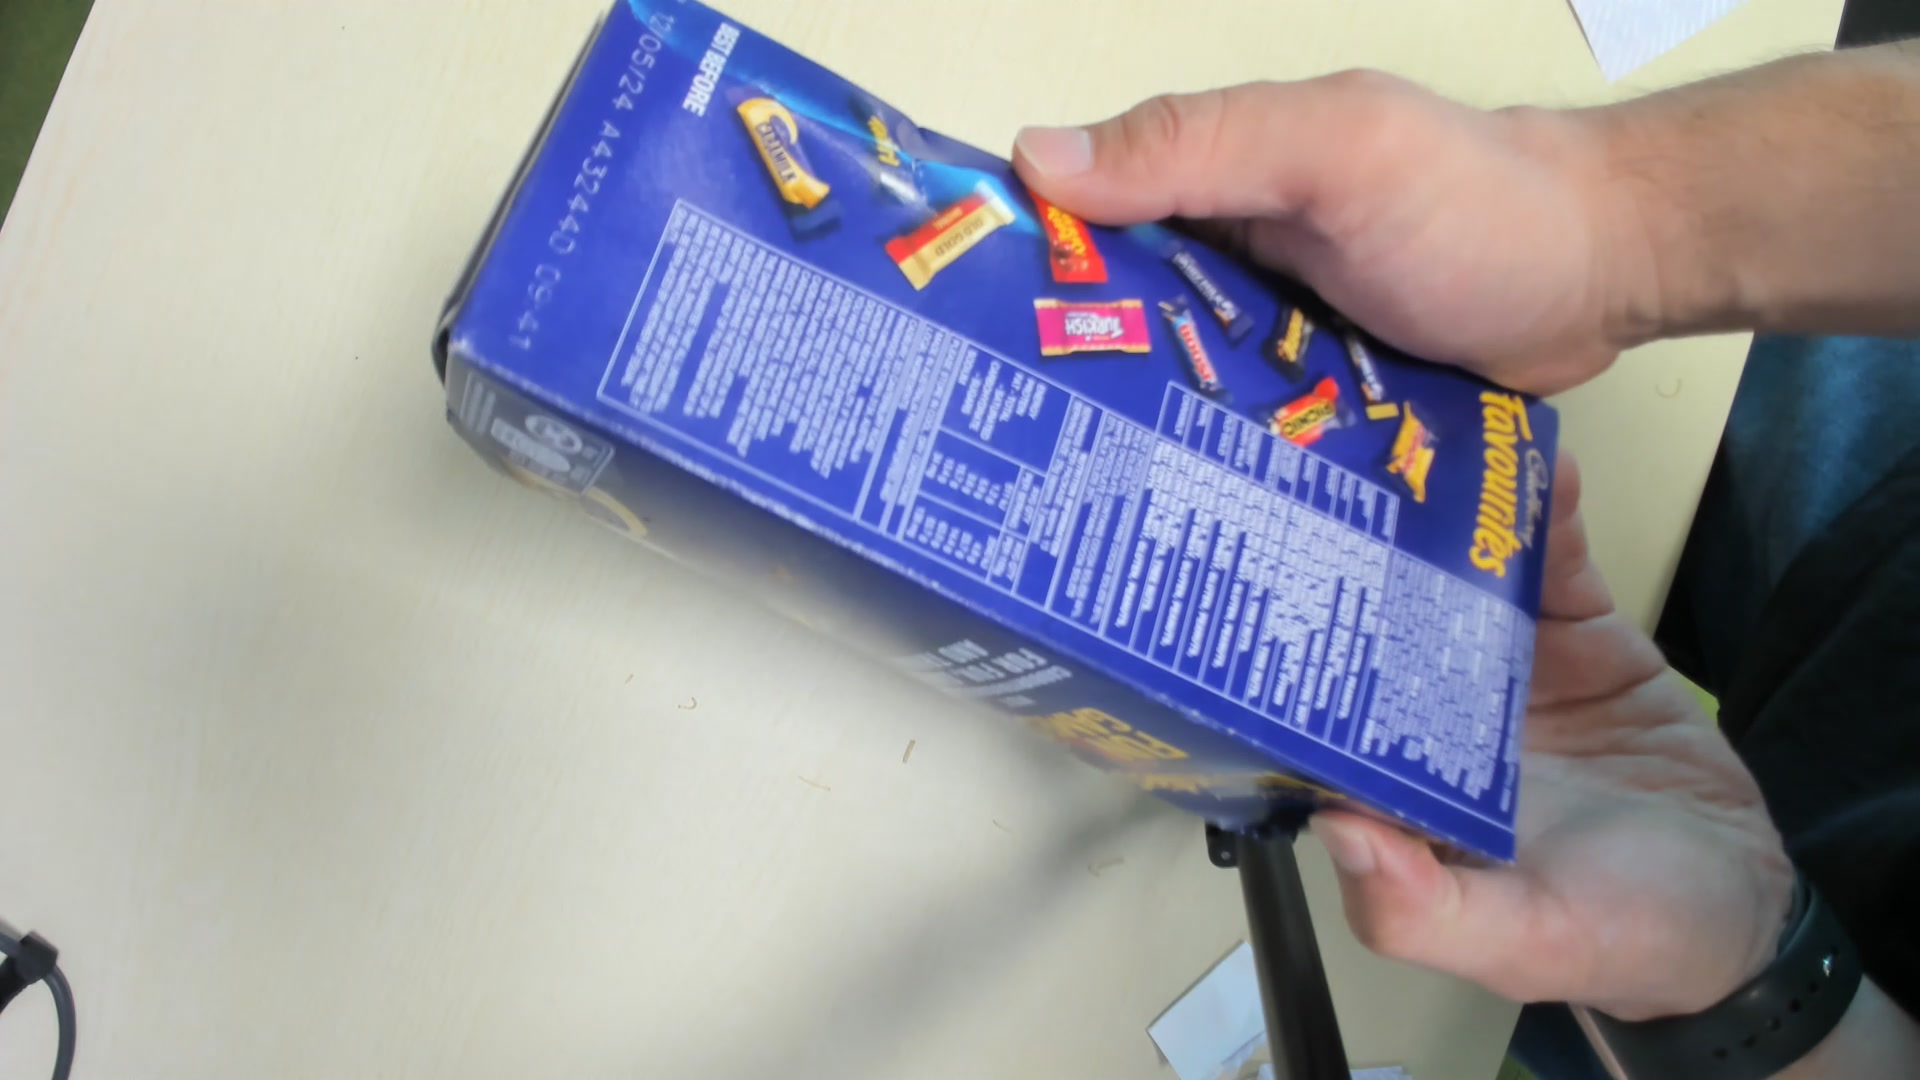SweetsChocolatesOthers_300-399g_NonHalal_Nonhealthy: (429, 13, 1563, 876)
